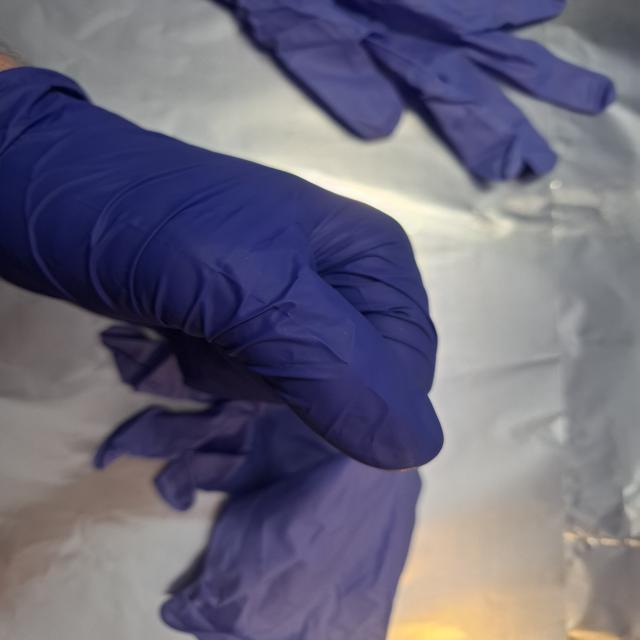glove_on: (0, 65, 449, 473)
